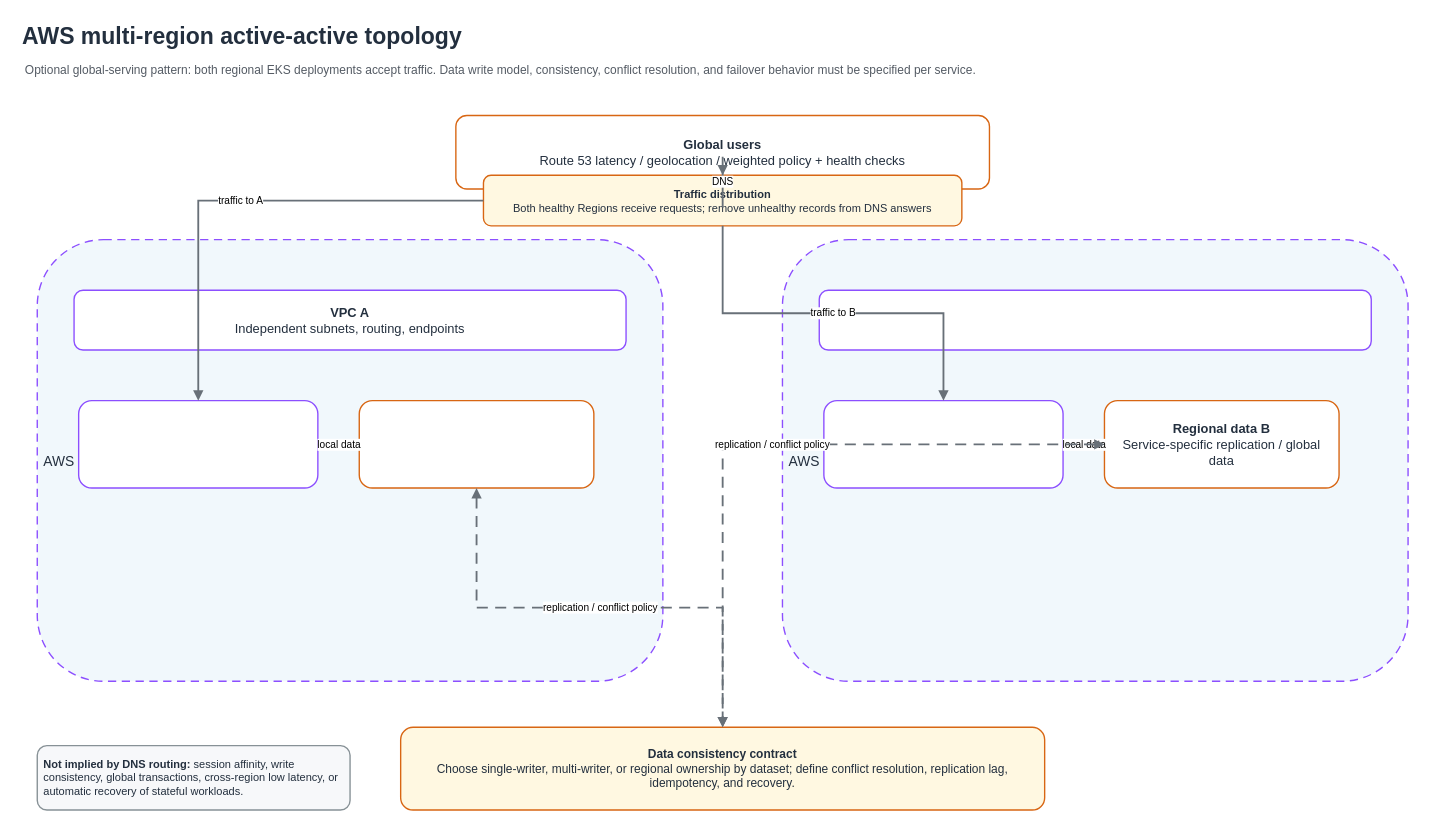
This 1444x826 diagram has some shape labels left out. Each missing label, with the centre of its shape:
"EKS A ICA services + GPU/CPU pools" goes at (198,444).
"EKS B ICA services + GPU/CPU pools" goes at (943,444).
"Regional data A Aurora / S3 / EFS / cache / events" goes at (476,444).
"VPC B Independent subnets, routing, endpoints" goes at (1095,319).
